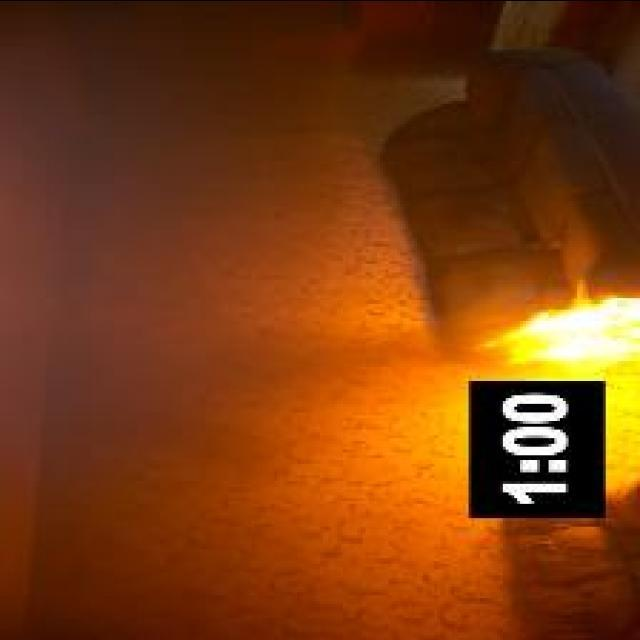Fire: (474, 294, 640, 368)
